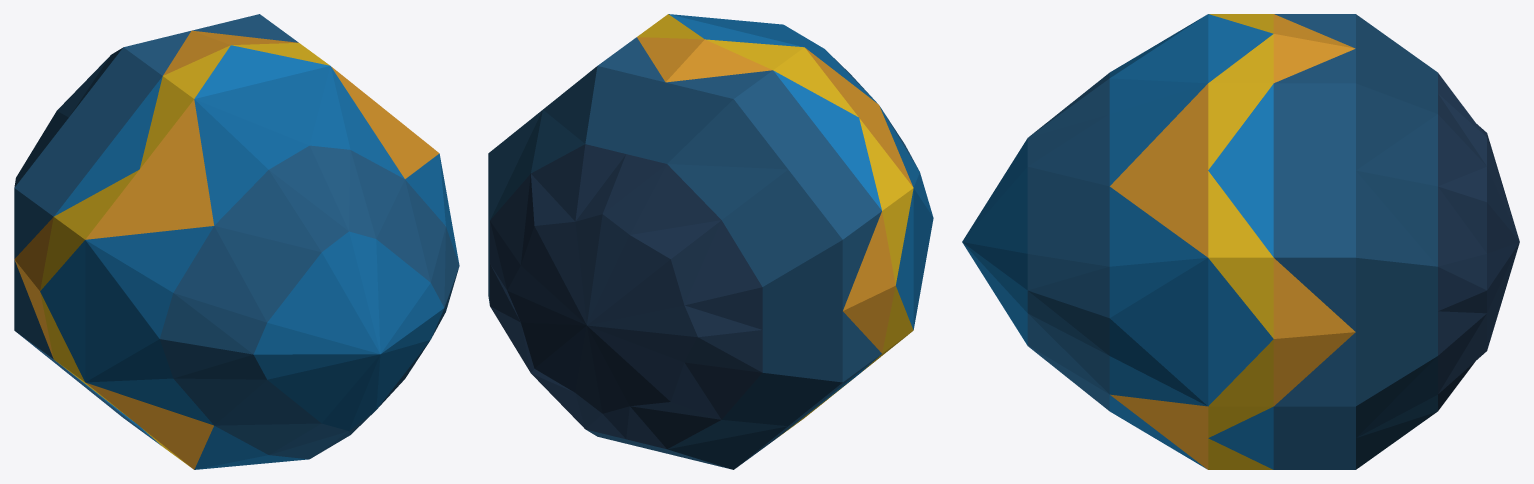
3 views of the same model, side by side, from view 1: azimuth 30°, elevation 25°; view 2: azimuth 150°, elevation 25°; view 3: azimuth 270°, elevation 25° (orthographic). The views are drawn at different scales.
Bounding box in the file's own units: 28 × 28 × 34.
